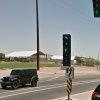Traffic light: (51, 26, 83, 76)
